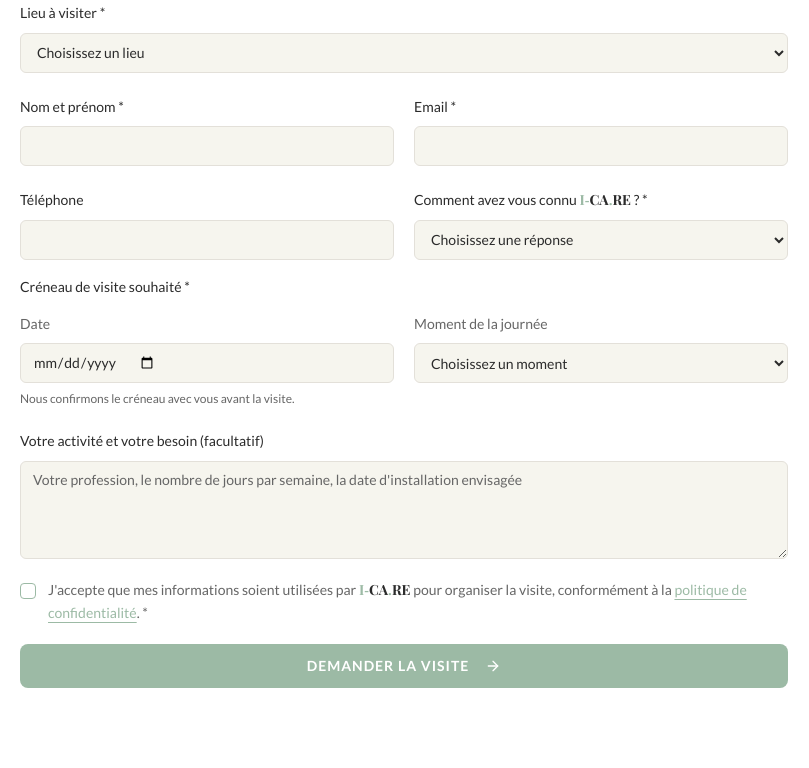
Test: demande de visite › F1 formulaire vide : refus par champ, focus sur le lieu, aucun envoi
This screenshot has width=809, height=768.
(page scrolled)
What coordinates should you click on to do the following:
click the button "Demander la visite"
I would click on:
 (404, 666)
Its box is [20,644,788,688].
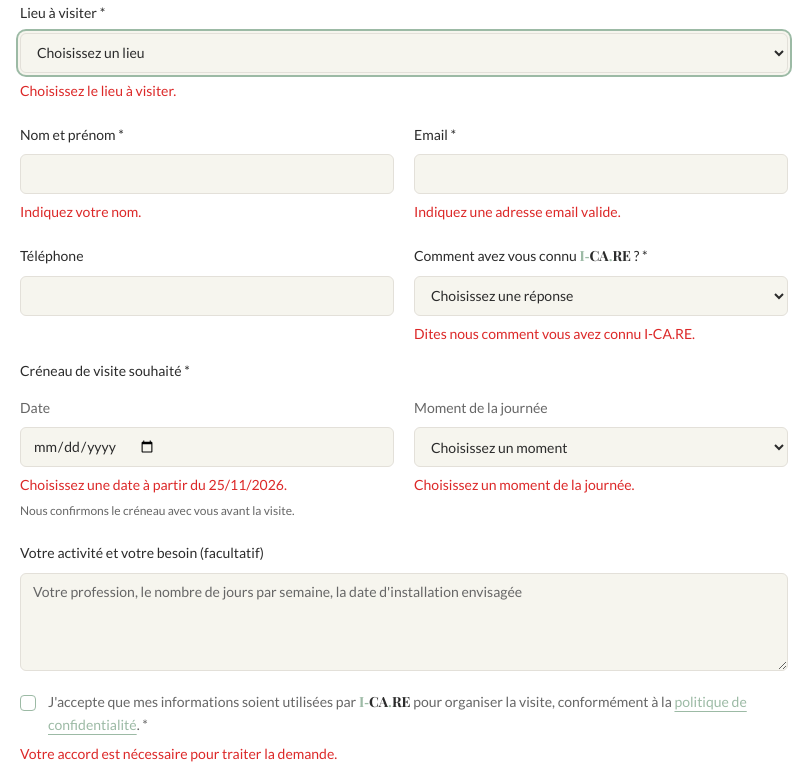
Now the dropdown labelled "Comment avez vous connu I‑CA.RE ? *" is marked as invalid, box [414,276,788,316]
Now the date field labelled "Date" is marked as invalid, box [20,427,394,467]
Now the dropdown labelled "Moment de la journée" is marked as invalid, box [414,427,788,467]
